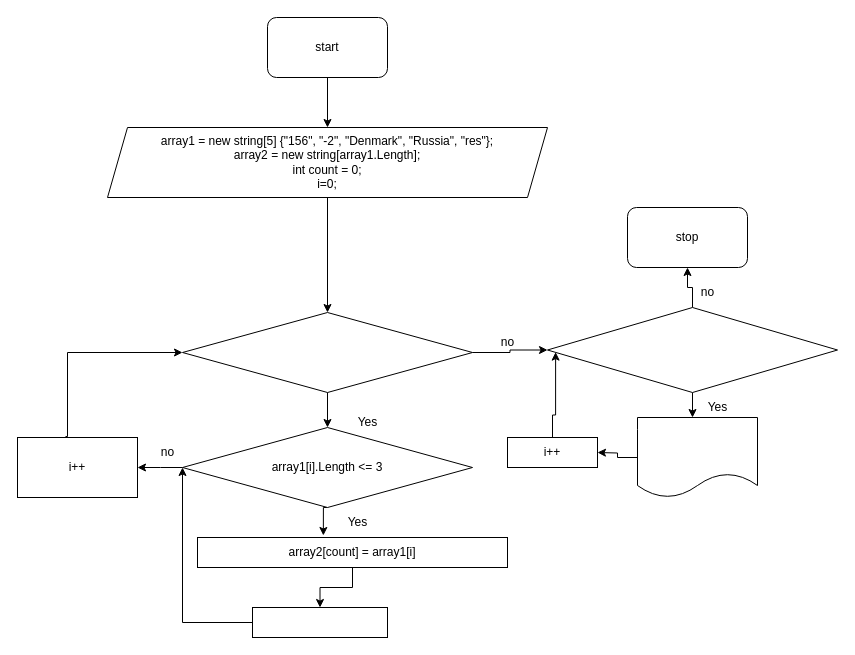
This 855x655 diagram has some shape labels left out. The shapes that lost their labels are listed below. From the top down, each one's centre as x and y in pixels, then its label:
At (x=327, y=352): "i < array1.Length".
At (x=692, y=349): "i < array2.Length".
At (x=697, y=457): "array2[i]".
At (x=320, y=622): "count++".
